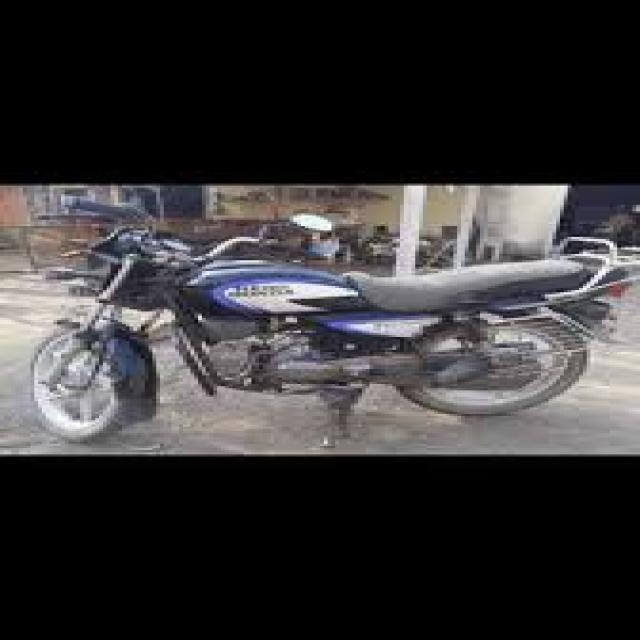bike: (23, 197, 617, 452)
